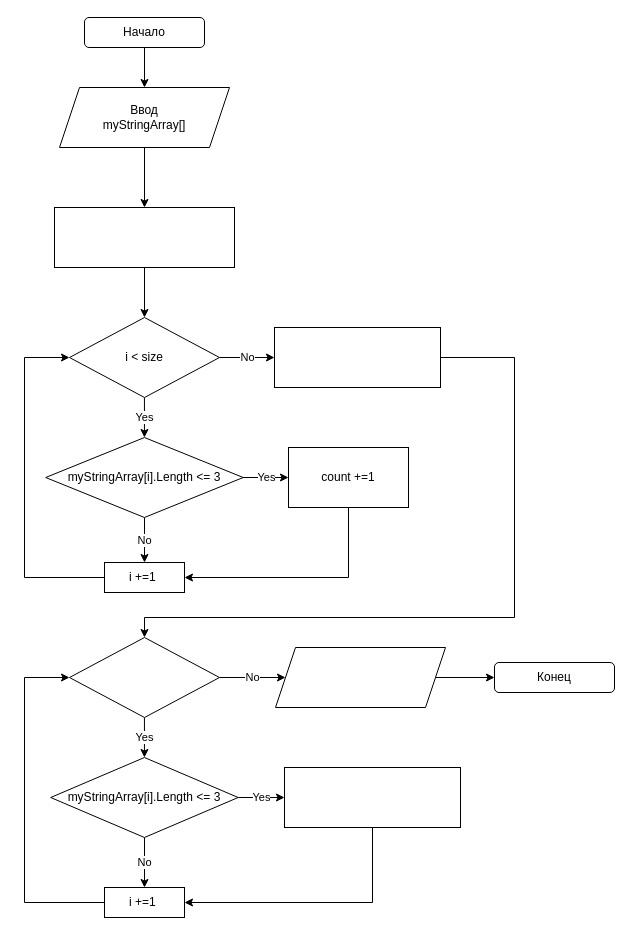
Some shapes in this 632 by 935 pixel diagram are drawn without their labels. The shapes that lost their labels are listed below. From the top down, each one's centre as x and y in pixels, then its label:
(x=144, y=237): size = myStringArray.Length i = 0 count = 0
(x=357, y=357): cutArray = array[count] i = 0 j = 0
(x=144, y=677): i < size && j < count
(x=360, y=677): Вывод cutArray[]
(x=372, y=797): cutArray[j] = myStringArray[i] j +=1
